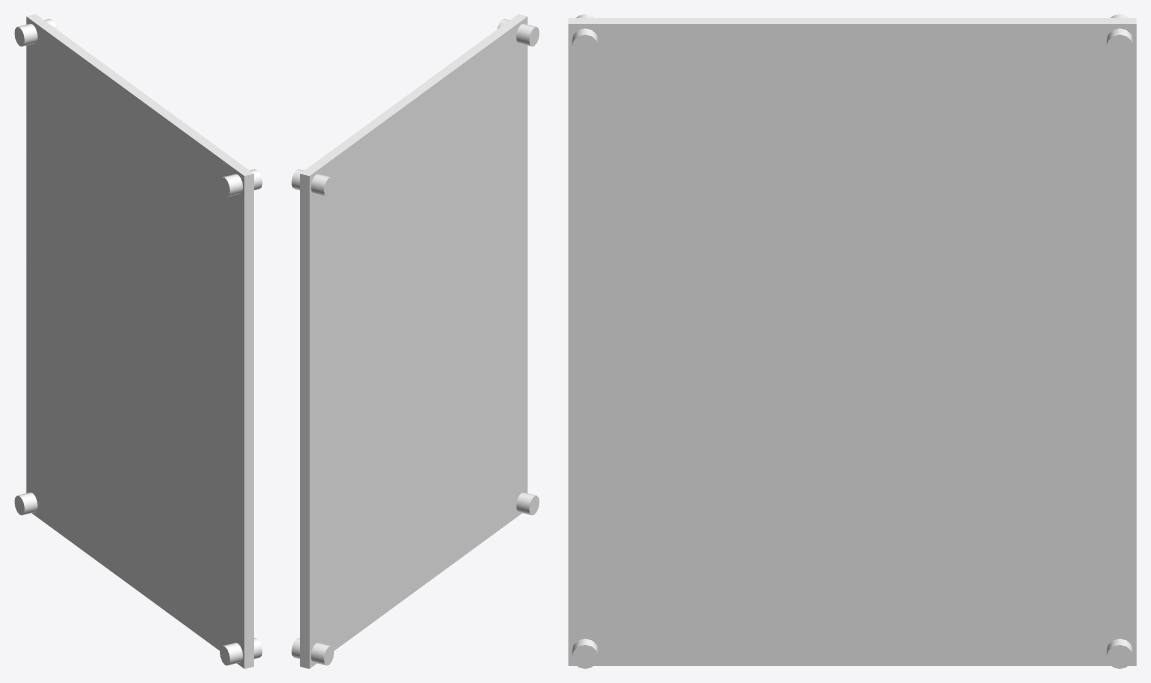
Rendered from Poster Toy Foxy.glb.
The picture shows the model from 3 angles, left to right: view 1: azimuth 30°, elevation 25°; view 2: azimuth 150°, elevation 25°; view 3: azimuth 270°, elevation 25°; orthographic projection. The views are drawn at different scales.
Parts seen in each view (by area): view 1: Cube.036; view 2: Cube.036; view 3: Cube.036.
Boxes of the visible parts, left/top/right/bottom form: Cube.036: left=14, top=14, right=262, bottom=668; Cube.036: left=291, top=14, right=539, bottom=668; Cube.036: left=568, top=14, right=1136, bottom=668.
Size of the model in its own units: 0.1212 by 1.76 by 1.41.
Materials: 2 (1 with a texture image).
